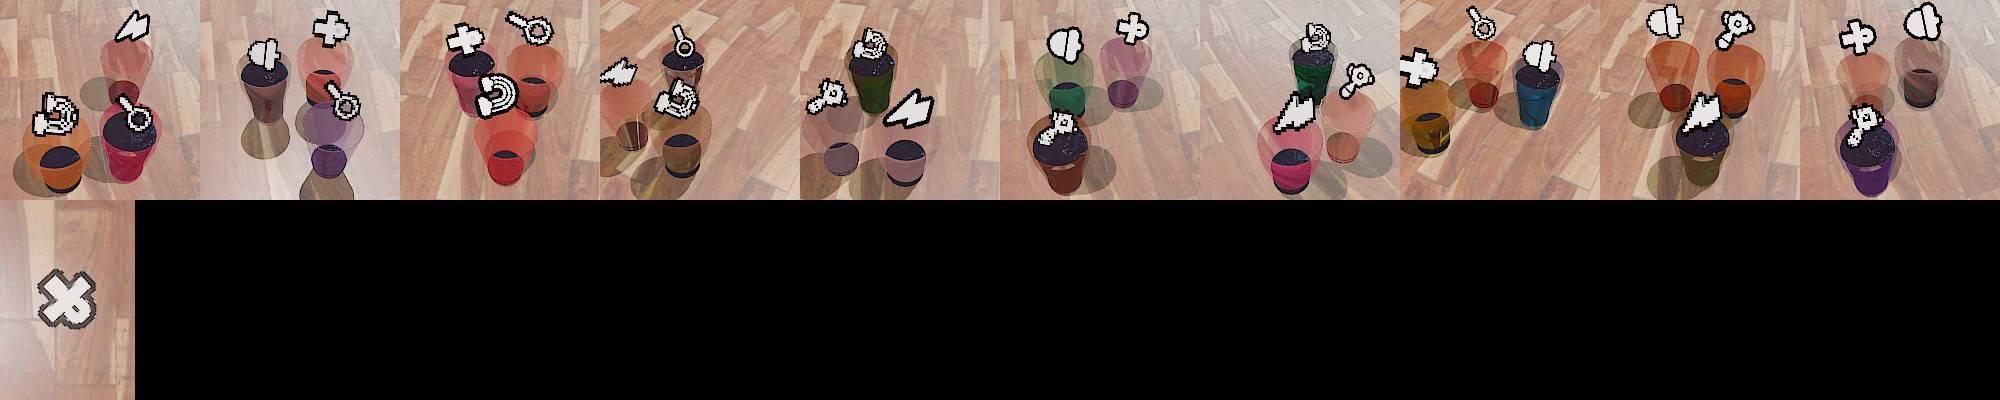icon: (34, 265, 100, 331), (881, 87, 936, 130), (31, 90, 79, 139), (1677, 91, 1724, 139), (474, 70, 520, 119), (1271, 90, 1319, 134), (652, 77, 701, 119), (1844, 103, 1886, 151), (505, 10, 554, 48), (1714, 9, 1757, 51), (1400, 47, 1441, 90), (804, 76, 848, 115), (114, 93, 155, 134), (1903, 2, 1943, 42), (1046, 25, 1085, 64), (324, 82, 363, 121), (445, 21, 487, 57), (1519, 38, 1559, 75), (1838, 17, 1876, 55), (1647, 3, 1685, 40), (312, 9, 349, 47), (850, 27, 889, 62), (246, 37, 283, 73), (113, 9, 151, 44), (1339, 62, 1374, 100), (598, 57, 638, 90), (1038, 108, 1079, 140), (1116, 11, 1150, 46), (1466, 5, 1497, 41), (1300, 21, 1333, 54), (670, 23, 696, 58)
